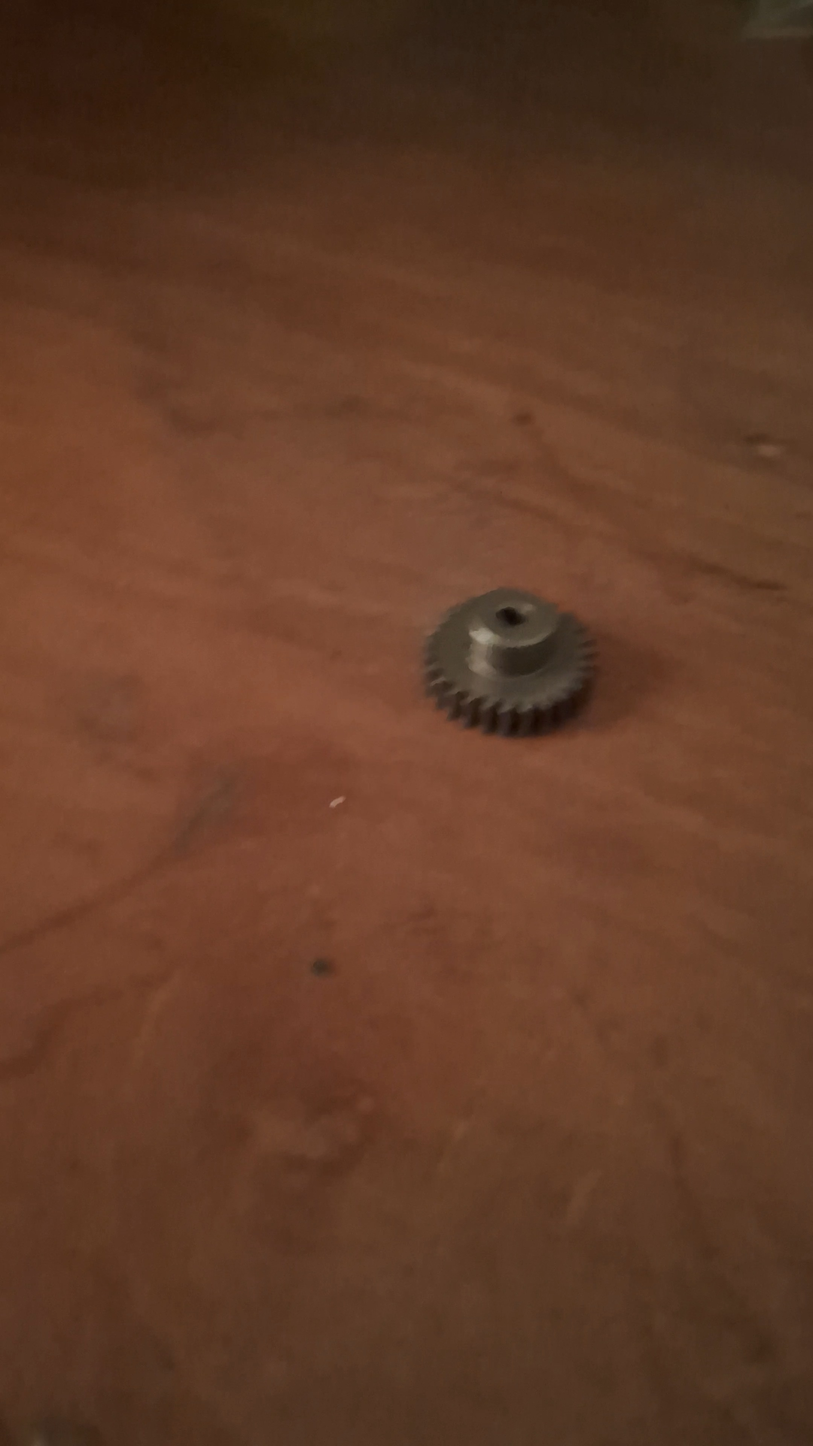spur gear: (425, 589, 594, 736)
